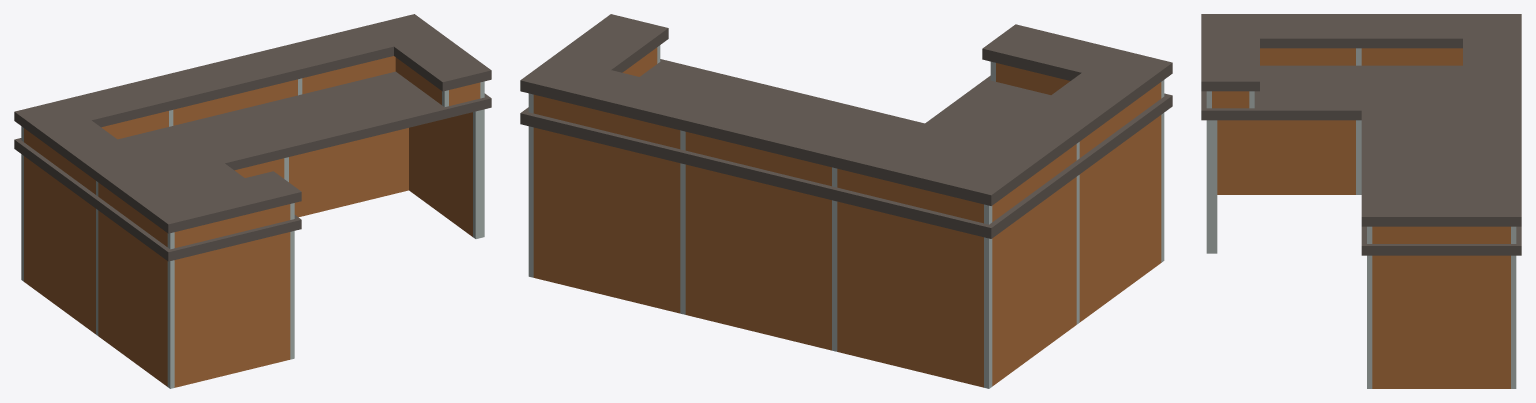
The model's file is counter_01.glb.
The picture shows the model from 3 angles, left to right: view 1: azimuth 30°, elevation 25°; view 2: azimuth 150°, elevation 25°; view 3: azimuth 270°, elevation 25°; orthographic projection. The views are drawn at different scales.
Parts seen in each view (by area): view 1: Untitled; view 2: Untitled; view 3: Untitled.
Part boxes in pixels (bbox=[...]): Untitled: bbox=[14, 14, 491, 388]; Untitled: bbox=[520, 14, 1172, 388]; Untitled: bbox=[1201, 14, 1521, 388].
Size of the model in its own units: 2.7 by 1.08 by 1.8.
Materials: 1 (1 with a texture image).
